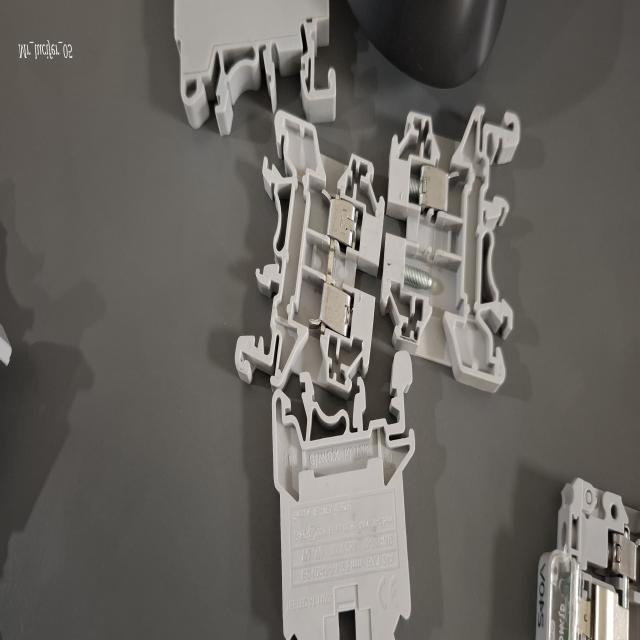Pass: (212, 115, 391, 467)
Reject: (374, 71, 522, 424)
